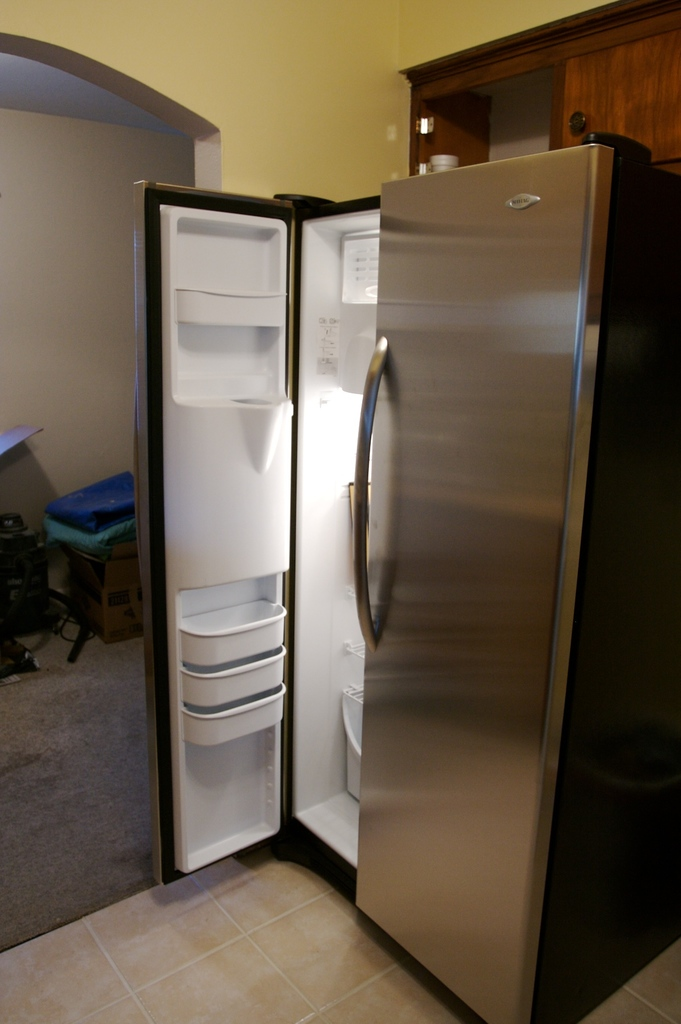cabinet door: (566, 58, 654, 141)
handle: (350, 353, 396, 657), (569, 101, 583, 144)
refrigerator door: (381, 181, 533, 994), (147, 202, 286, 836)
